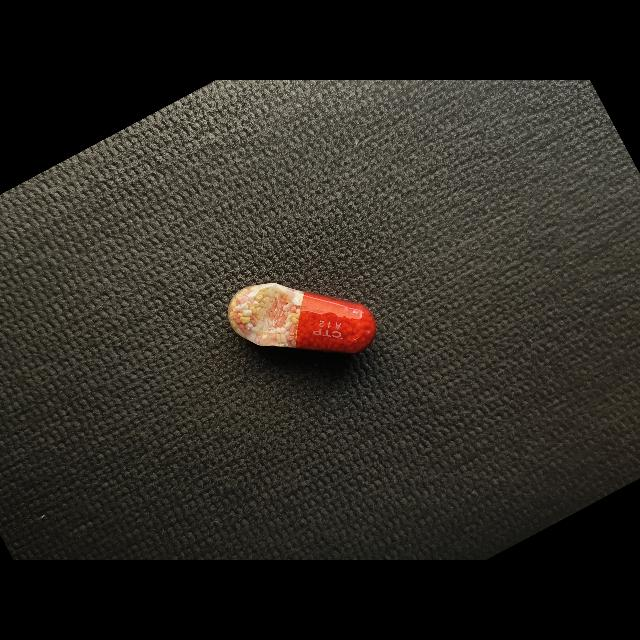Defective Capsule: (228, 283, 376, 353)
